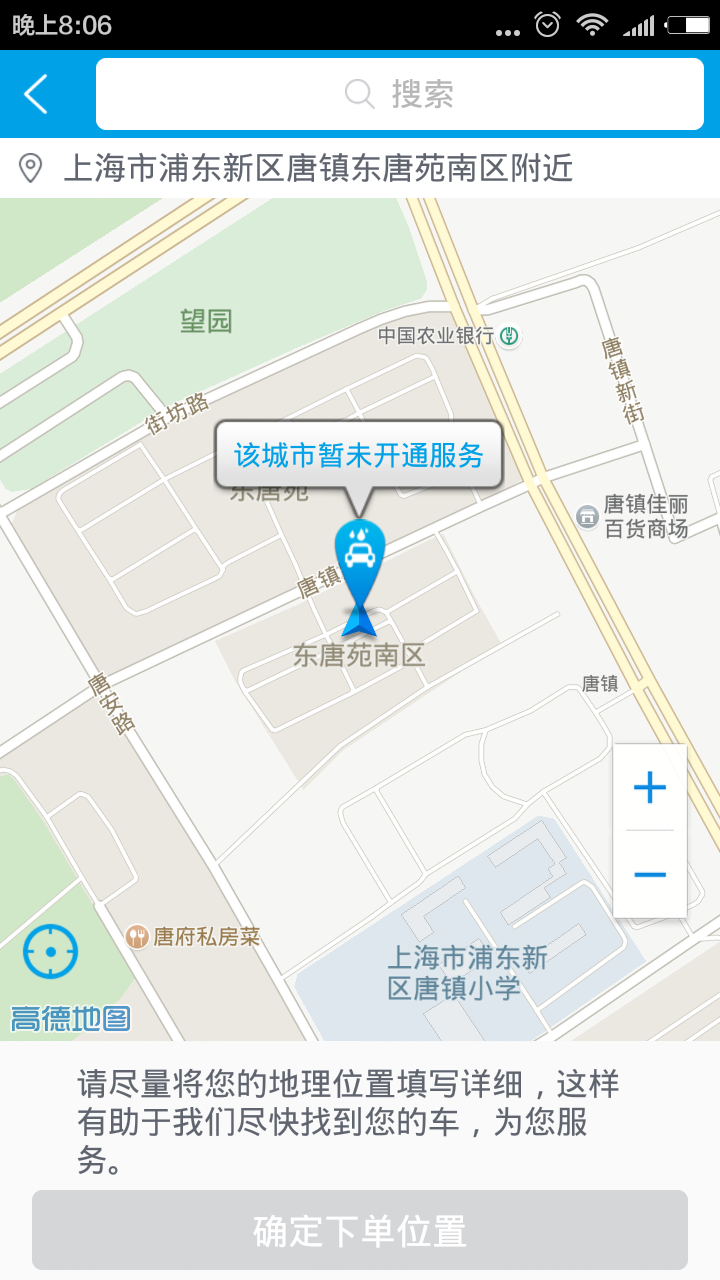button: (21, 1185, 706, 1276)
imgbutton: (610, 740, 685, 822), (612, 831, 685, 913), (18, 917, 81, 990), (8, 67, 64, 126)
textview: (86, 52, 706, 138)
